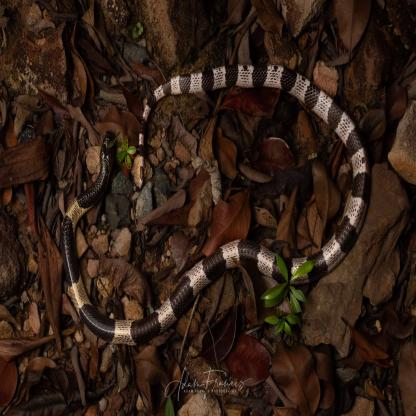Snake: (59, 70, 369, 344), (84, 125, 128, 207)
